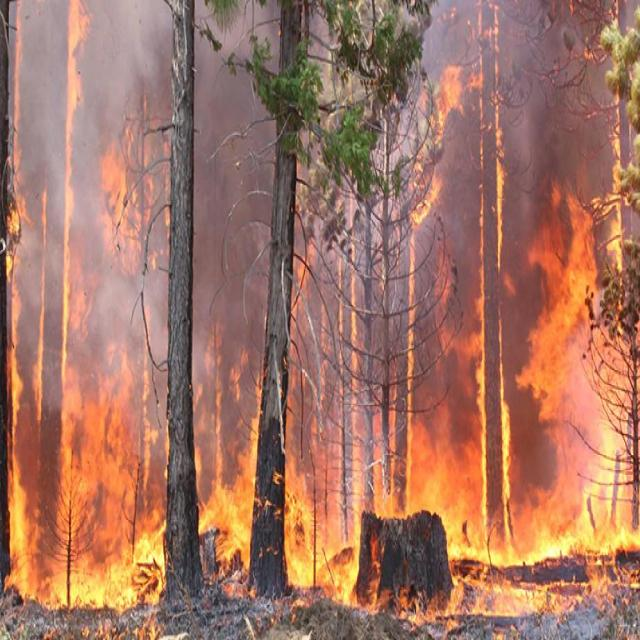fire: (7, 380, 166, 608), (280, 473, 358, 600)
